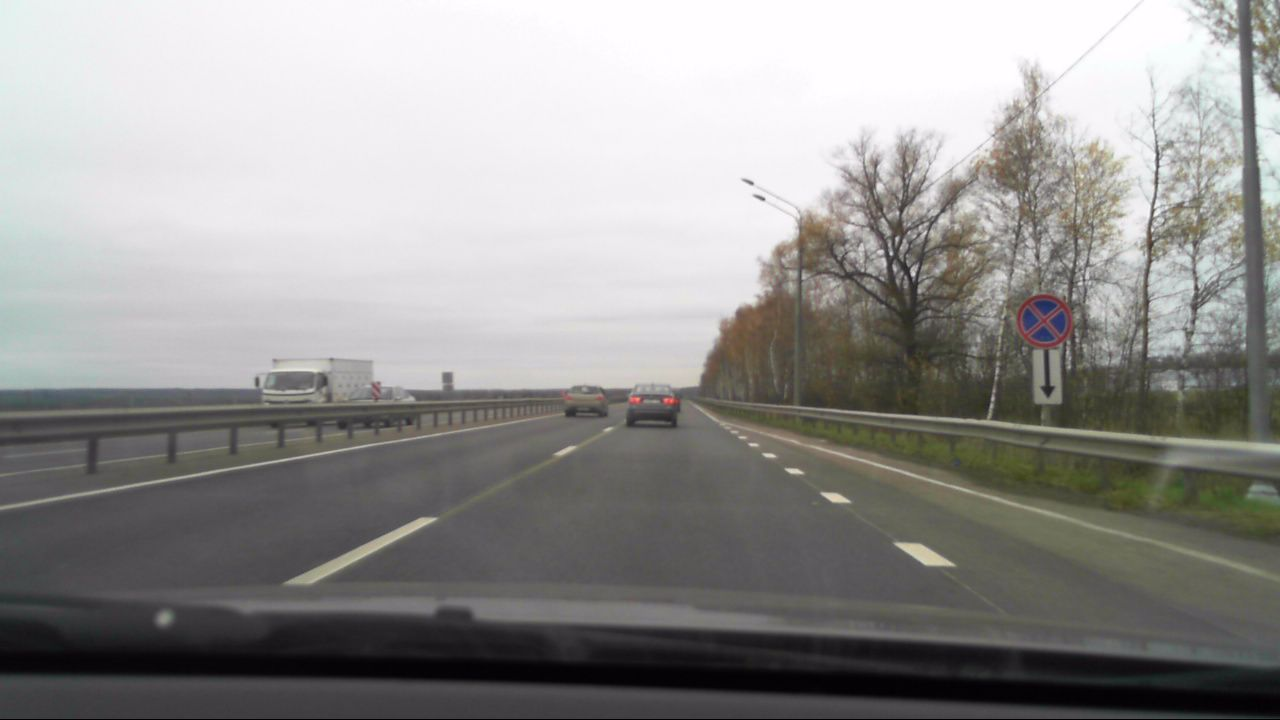No Parking: (1014, 293, 1071, 347)
